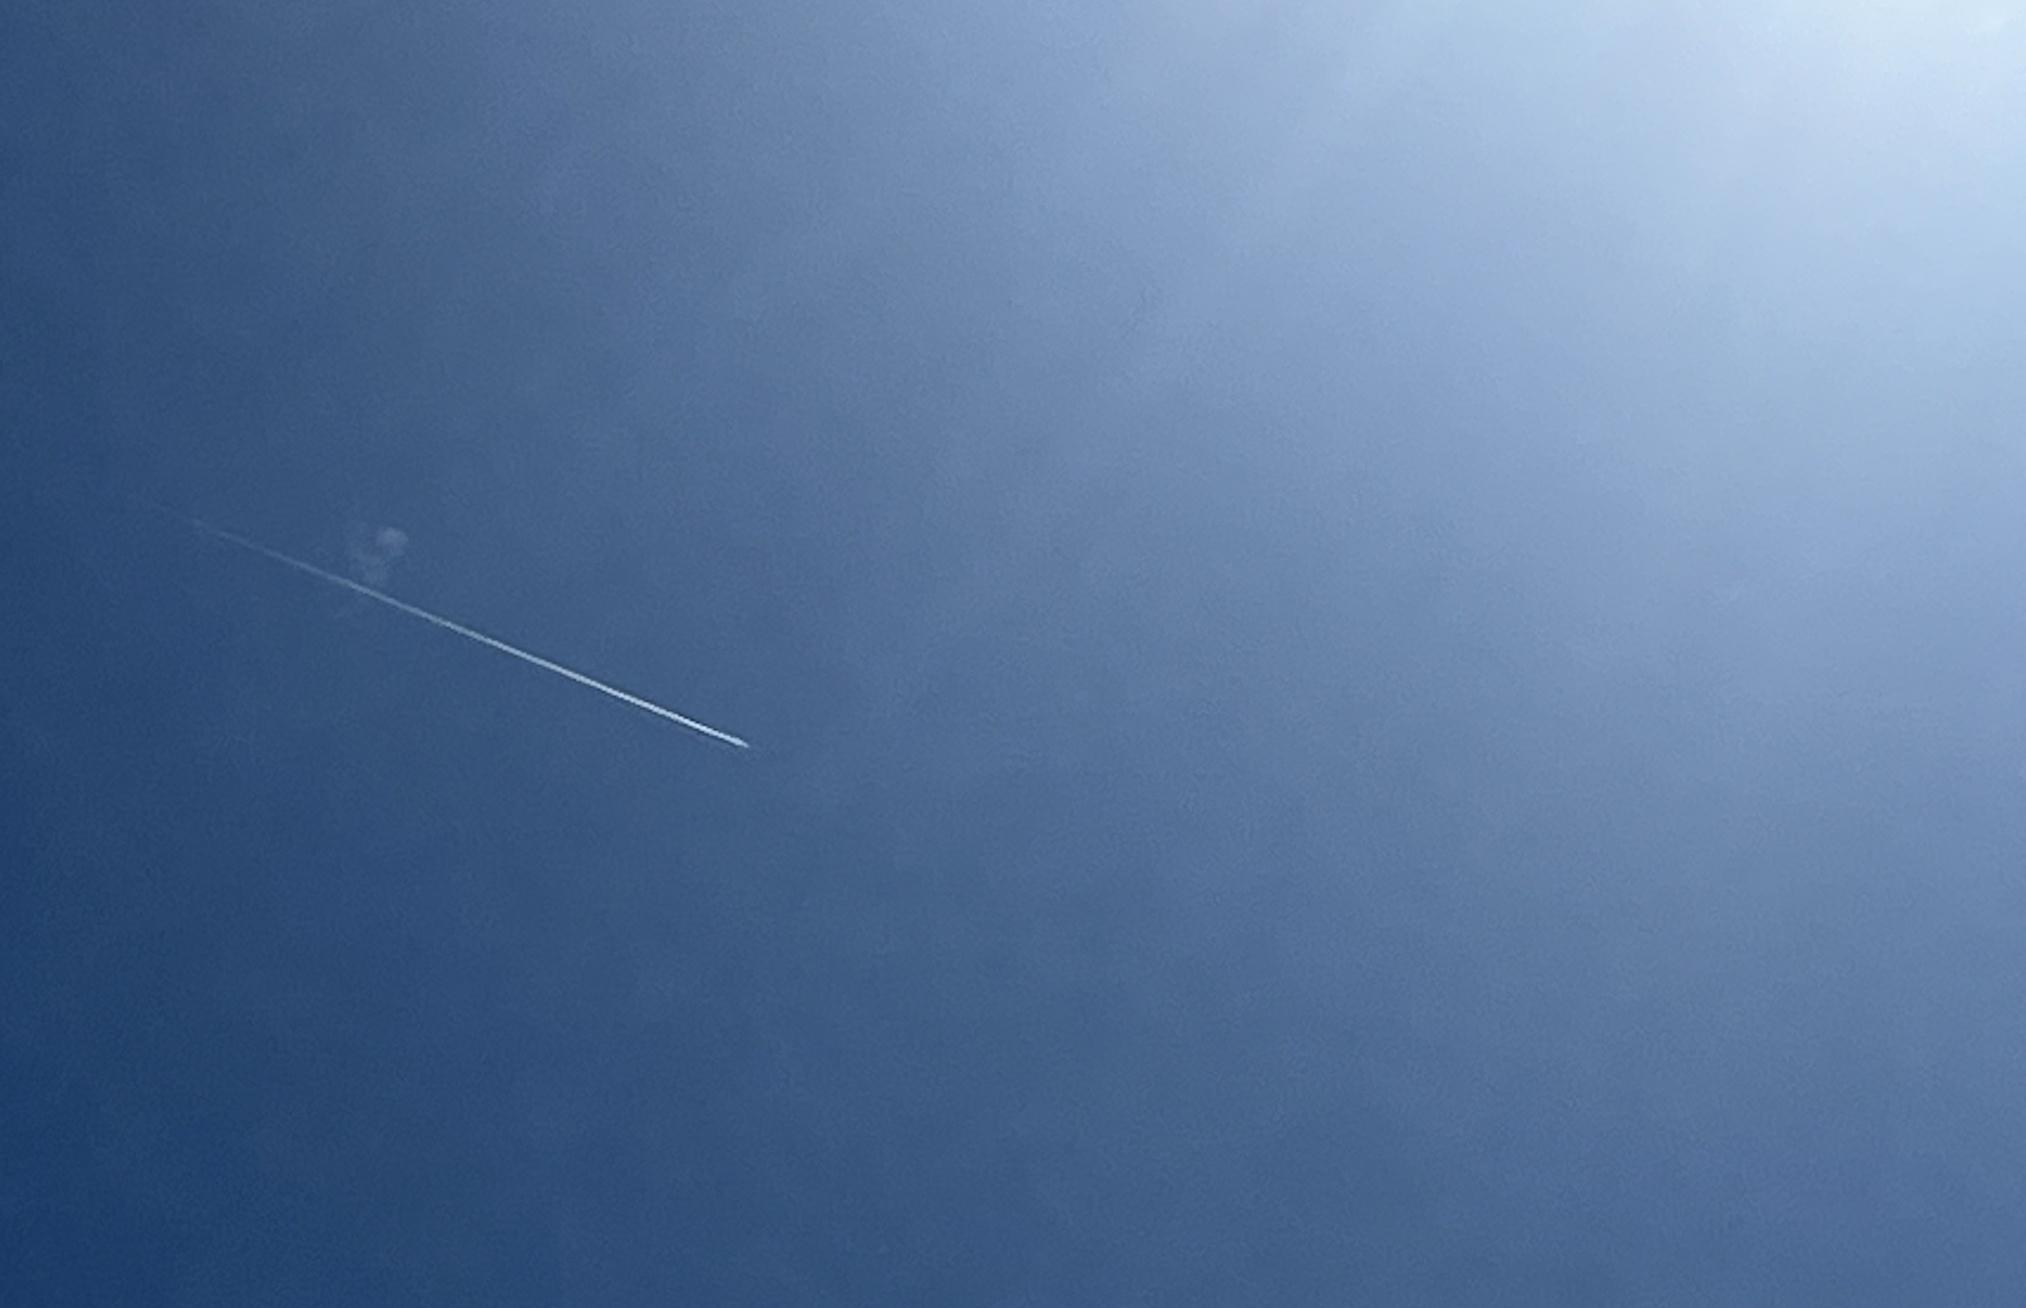Plane: (291, 531, 783, 772)
